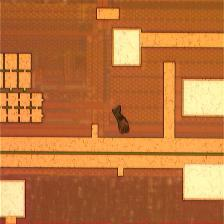PARTICLE: (113, 105, 131, 135)
